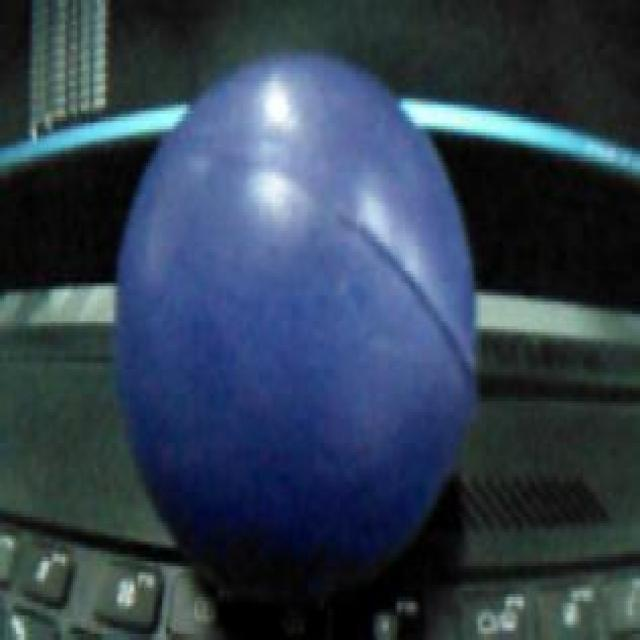BallPurple: (117, 52, 476, 600)
